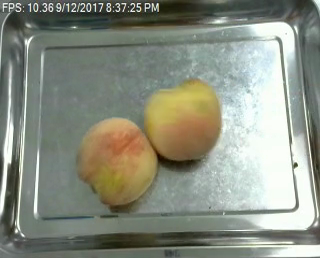Peach: (75, 117, 158, 205), (144, 79, 223, 161)
